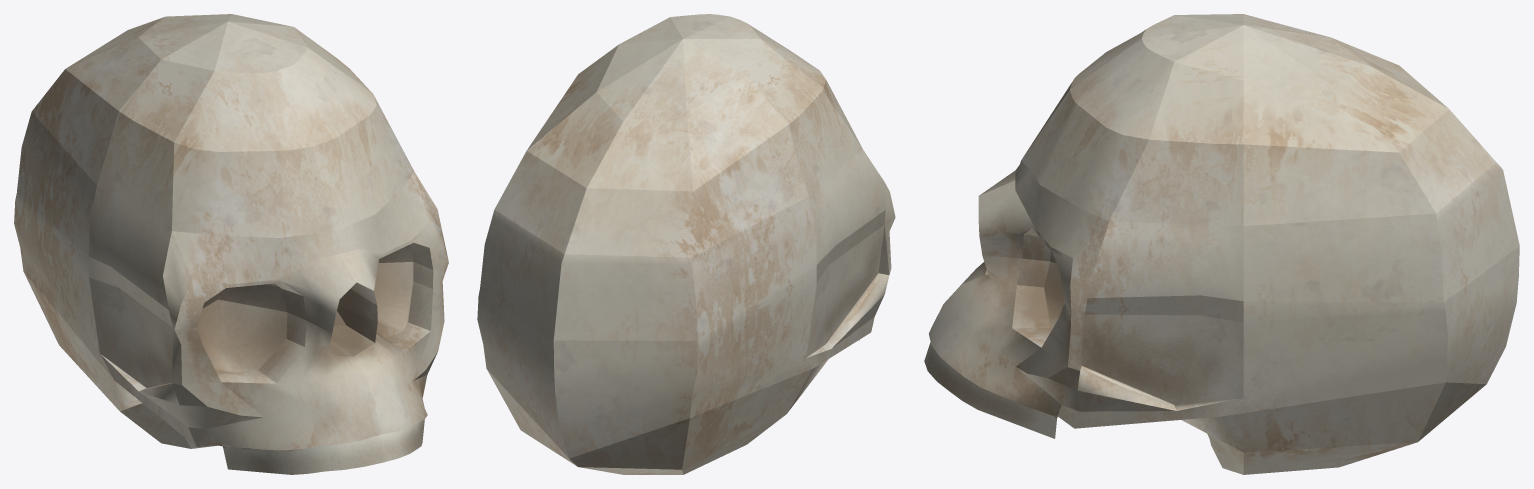
The model's file is HumanSkull.fbx.
3 renders of one model, left to right at view 1: azimuth 30°, elevation 25°; view 2: azimuth 150°, elevation 25°; view 3: azimuth 270°, elevation 25°, orthographic. The views are drawn at different scales.
Visible parts, largest first — view 1: Skull; view 2: Skull; view 3: Skull.
Boxes of the visible parts, box(x1,y1,x2,y2) form: Skull: box(14, 14, 448, 474); Skull: box(477, 14, 895, 474); Skull: box(924, 14, 1519, 474).
Size of the model in its own units: 8.64 by 12.53 by 15.61.
